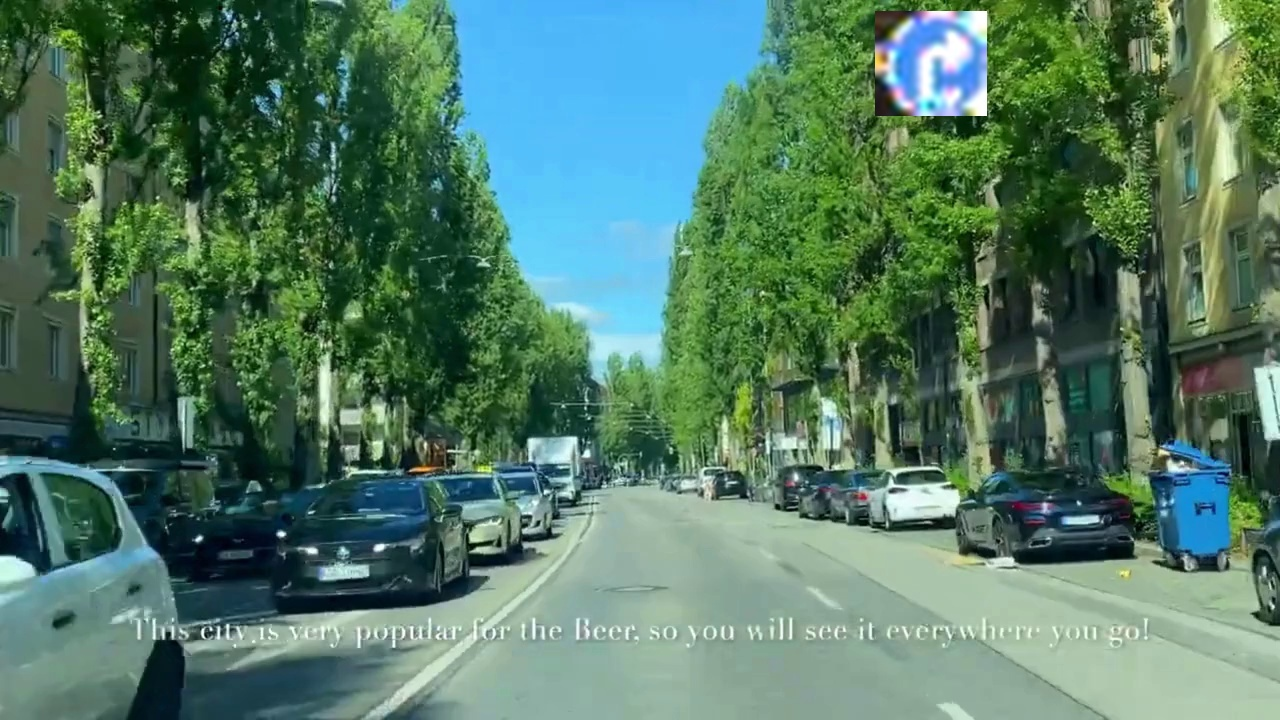Turn right: (875, 11, 987, 116)
